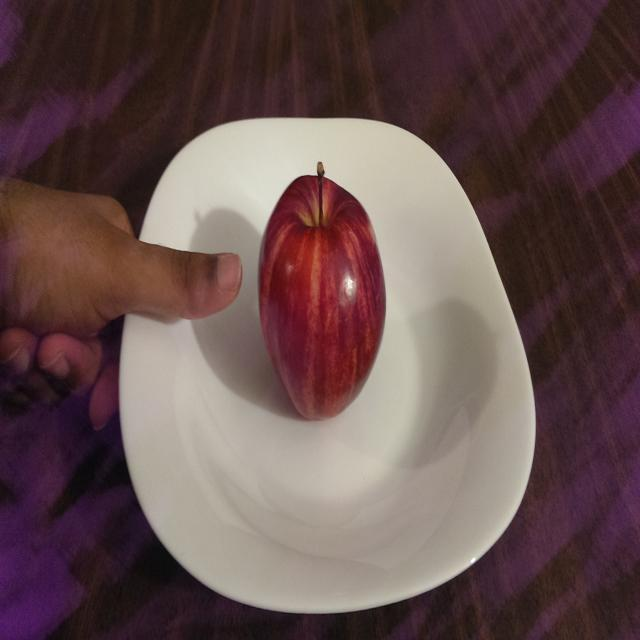Apple: (253, 149, 392, 431)
Finger: (158, 238, 248, 334)
